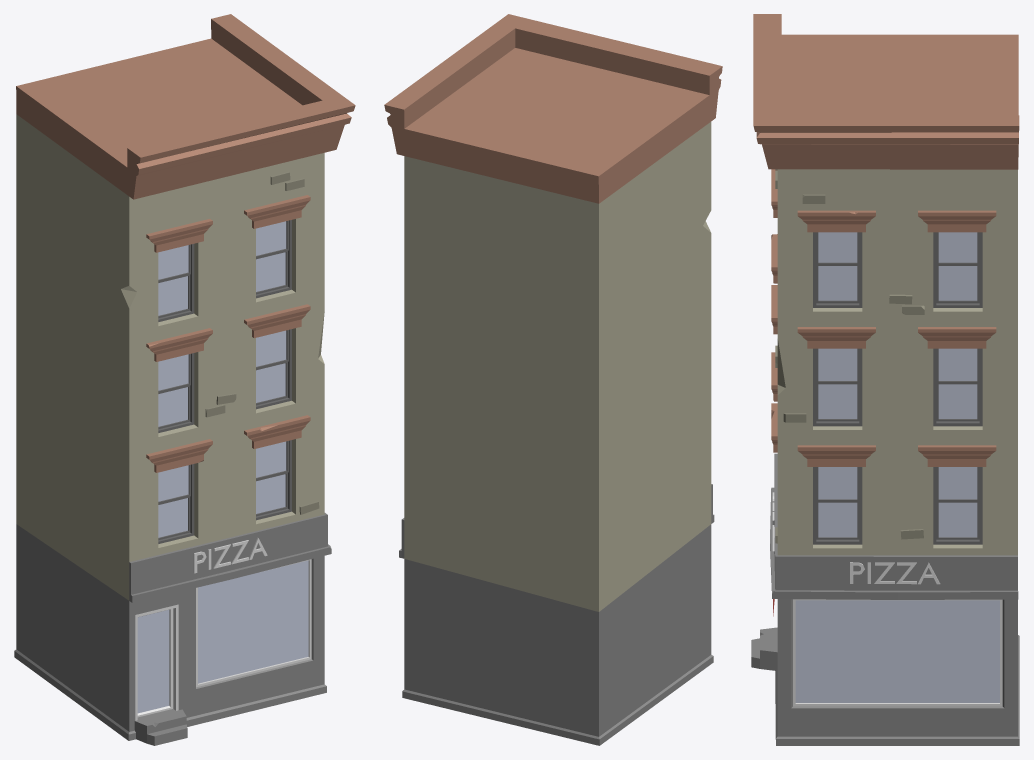
File: Pizza Corner.glb
3 views of the same model, side by side, from view 1: azimuth 30°, elevation 25°; view 2: azimuth 150°, elevation 25°; view 3: azimuth 270°, elevation 25° (orthographic). The views are drawn at different scales.
Visible parts, largest first — view 1: PizzaCorner; view 2: PizzaCorner; view 3: PizzaCorner.
Boxes of the visible parts, x1,y1,x2,y2 form: PizzaCorner: [14, 14, 355, 745]; PizzaCorner: [384, 14, 722, 745]; PizzaCorner: [751, 14, 1019, 745].
Size of the model in its own units: 1.33 by 3.47 by 1.34.
